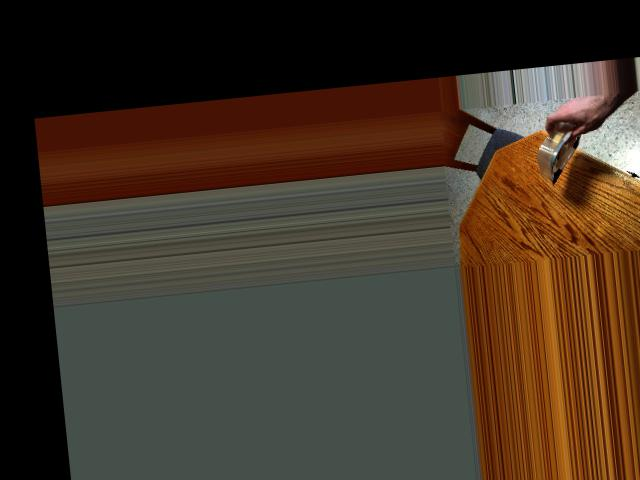cheese: (525, 110, 606, 180)
